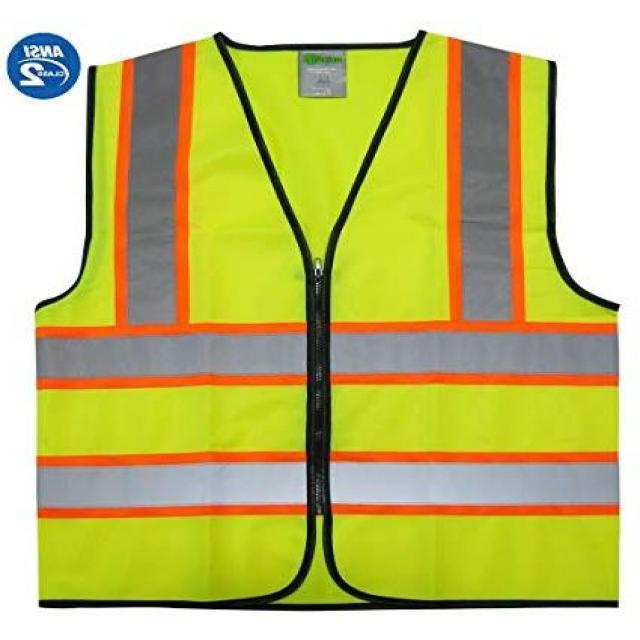reflective_jacket: (20, 12, 639, 639)
